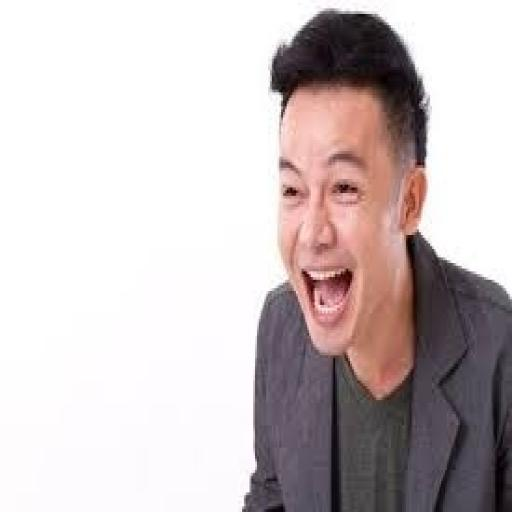laughing: (233, 6, 508, 506)
